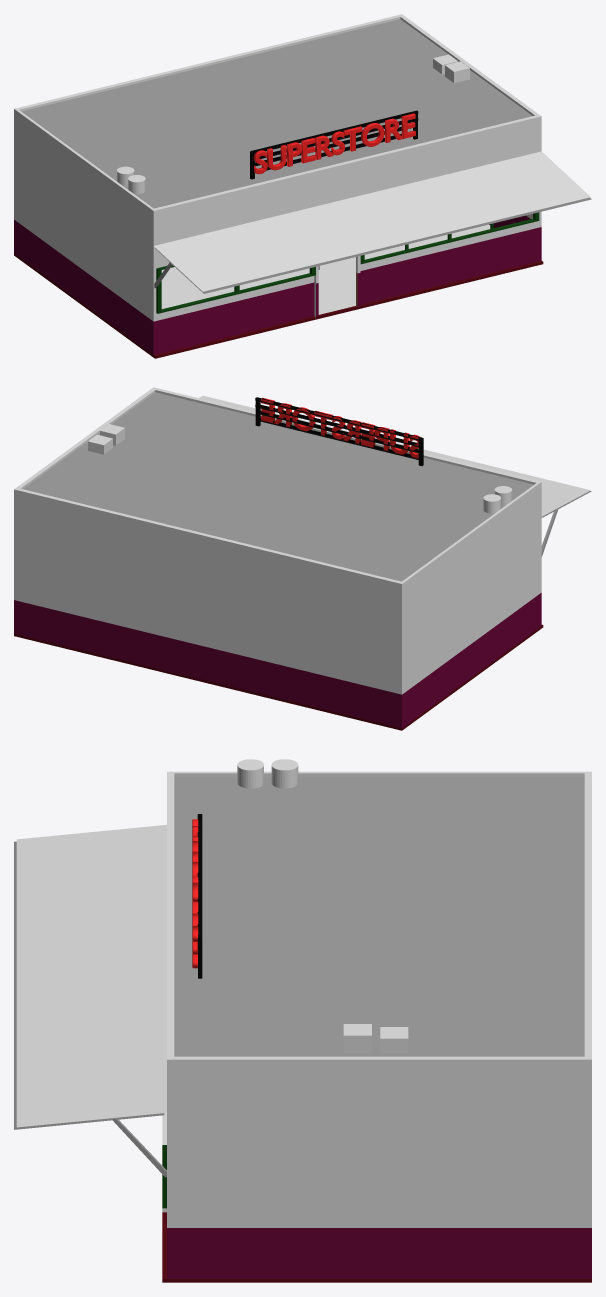
The model's file is supermercato.fbx.
3 views of the same model, one above another, from view 1: azimuth 30°, elevation 25°; view 2: azimuth 150°, elevation 25°; view 3: azimuth 270°, elevation 25° (orthographic). The views are drawn at different scales.
Visible parts, largest first — view 1: sottotetto, insegna; view 2: sottotetto, insegna; view 3: sottotetto, insegna.
Boxes of the visible parts, bbox=[...] form: sottotetto: bbox=[14, 14, 591, 358]; insegna: bbox=[253, 113, 415, 174]; sottotetto: bbox=[14, 387, 591, 730]; insegna: bbox=[261, 397, 419, 458]; sottotetto: bbox=[14, 759, 591, 1282]; insegna: bbox=[192, 819, 198, 968].
Size of the model in its own units: 572 by 242 by 485.
